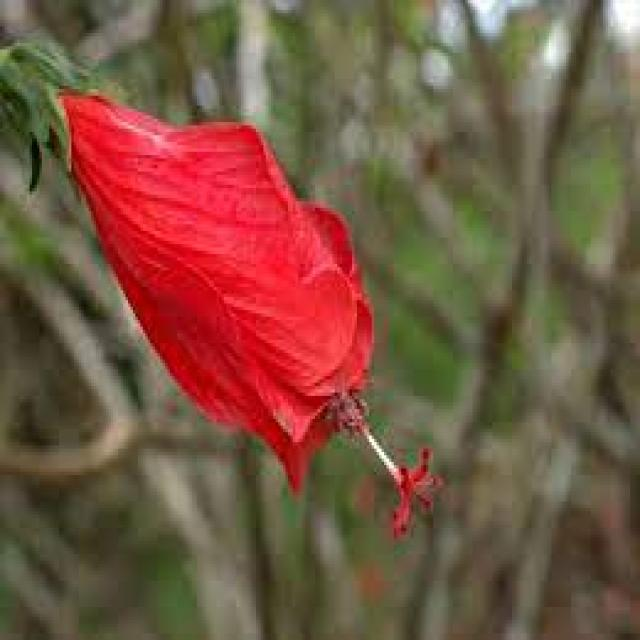Flower: (8, 40, 446, 568)
